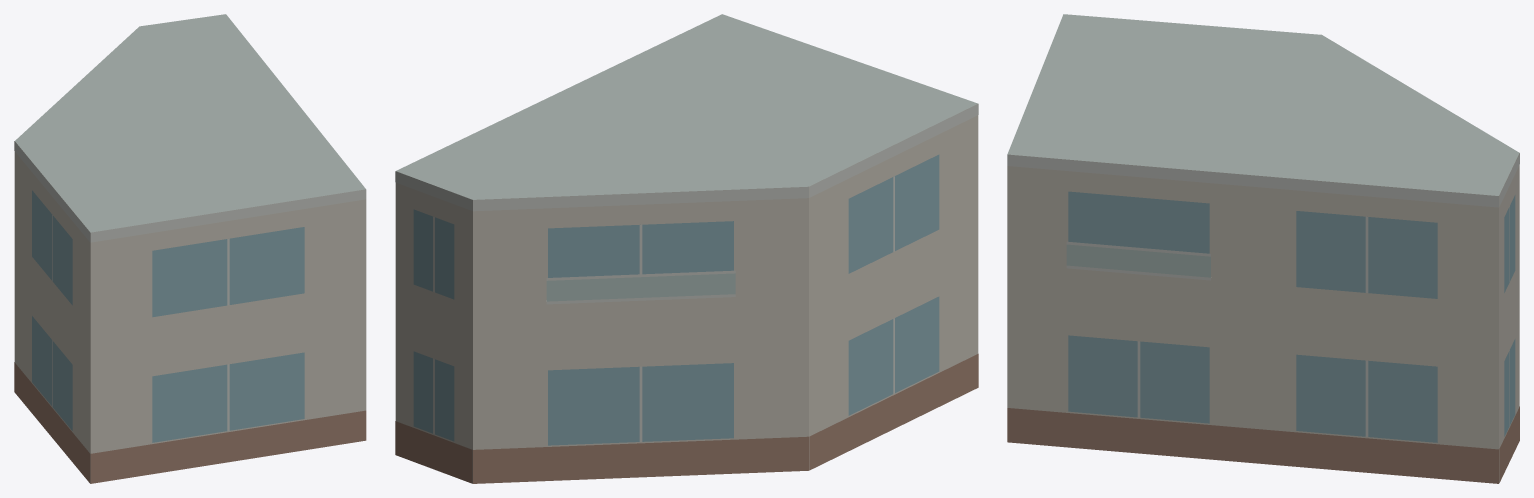
The model's file is survey-upis-32785108.glb.
The picture shows the model from 3 angles, left to right: view 1: azimuth 30°, elevation 25°; view 2: azimuth 150°, elevation 25°; view 3: azimuth 270°, elevation 25°; orthographic projection. The views are drawn at different scales.
Visible parts, largest first — view 1: survey-upis-32785108.tmp; view 2: survey-upis-32785108.tmp; view 3: survey-upis-32785108.tmp.
Boxes of the visible parts, x1,y1,x2,y2 form: survey-upis-32785108.tmp: (14,14,366,483); survey-upis-32785108.tmp: (395,14,978,483); survey-upis-32785108.tmp: (1007,14,1519,483).
Bounding box in the file's own units: 8.29 × 6.1 × 9.86.
